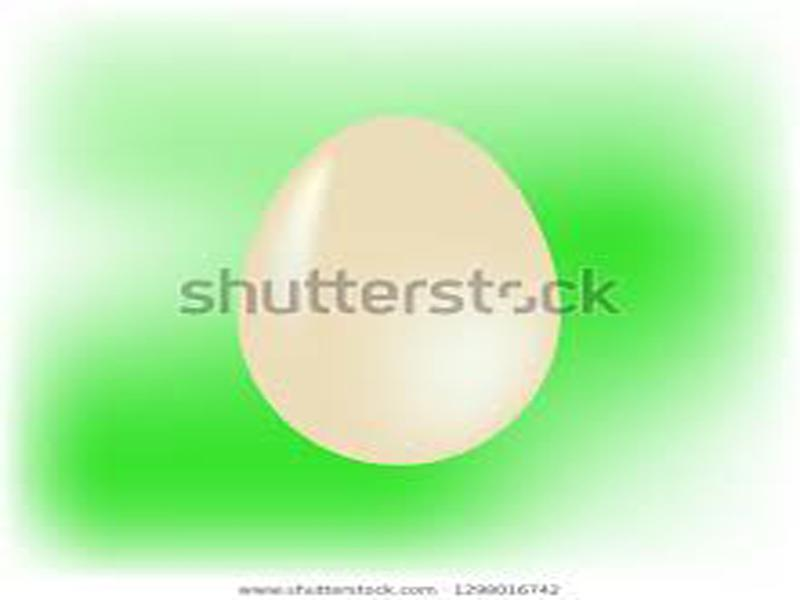Eggs: (239, 116, 561, 463)
